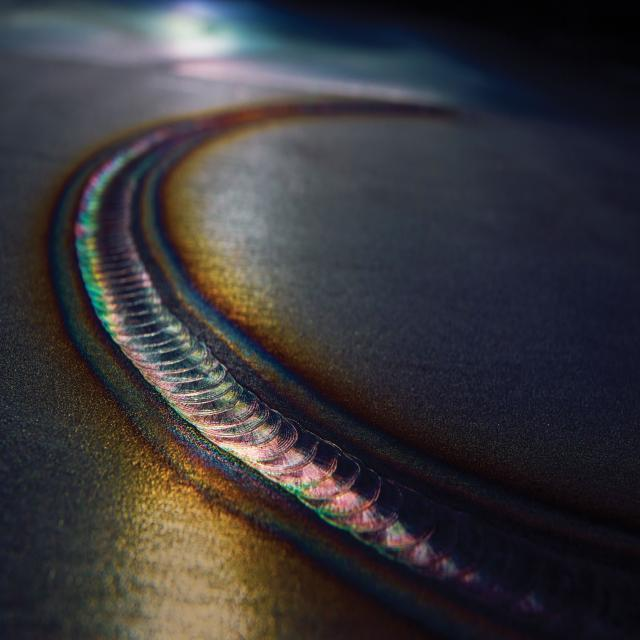Good Weld: (64, 168, 437, 566)
